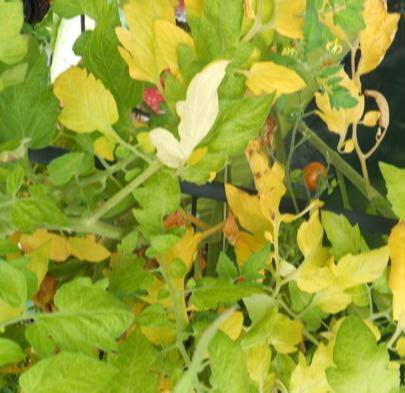Tomato leaf yellow virus: (32, 270, 141, 357), (224, 137, 295, 244), (50, 59, 126, 138), (322, 304, 392, 385), (243, 55, 310, 96)
